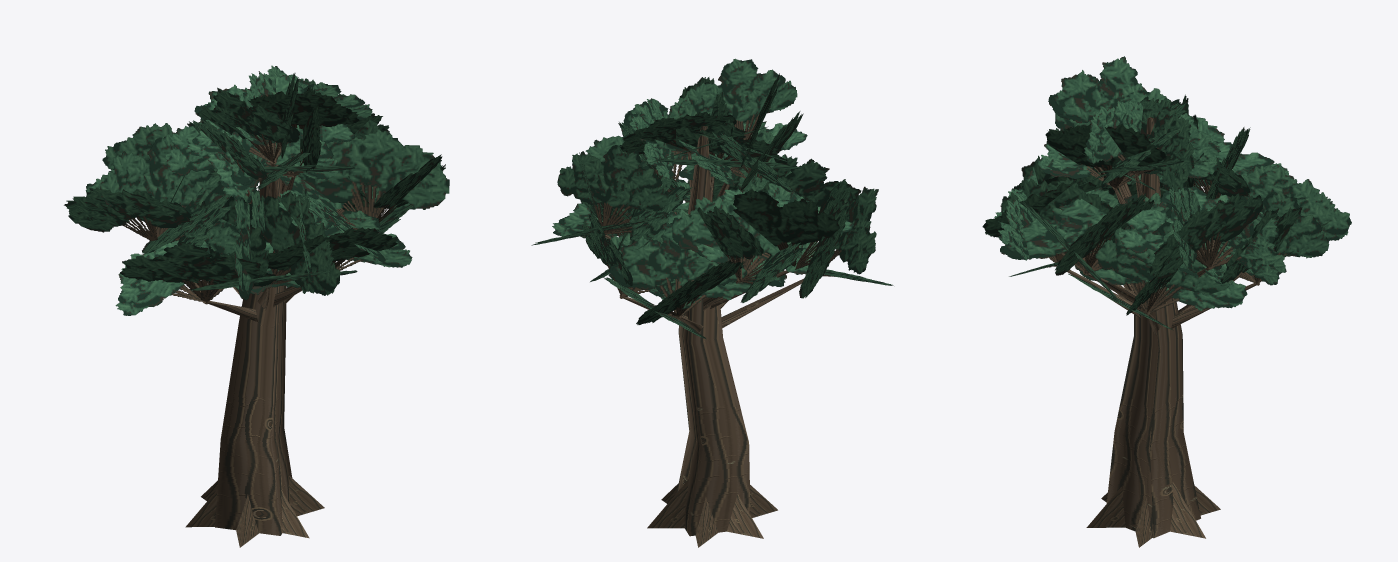
Rendered from old-growth-giant-mobile.glb.
3 views of the same model, side by side, from view 1: azimuth 30°, elevation 25°; view 2: azimuth 150°, elevation 25°; view 3: azimuth 270°, elevation 25° (orthographic). The views are drawn at different scales.
Visible parts, largest first — view 1: Old-growth giant mobile v3 runtime; view 2: Old-growth giant mobile v3 runtime; view 3: Old-growth giant mobile v3 runtime.
Part boxes in pixels (left/top/right/bottom): Old-growth giant mobile v3 runtime: left=64, top=65, right=449, bottom=547; Old-growth giant mobile v3 runtime: left=531, top=58, right=893, bottom=547; Old-growth giant mobile v3 runtime: left=982, top=56, right=1351, bottom=547.
Bounding box in the file's own units: 9.13 × 10.71 × 8.77.
Materials: 1 (1 with a texture image).
